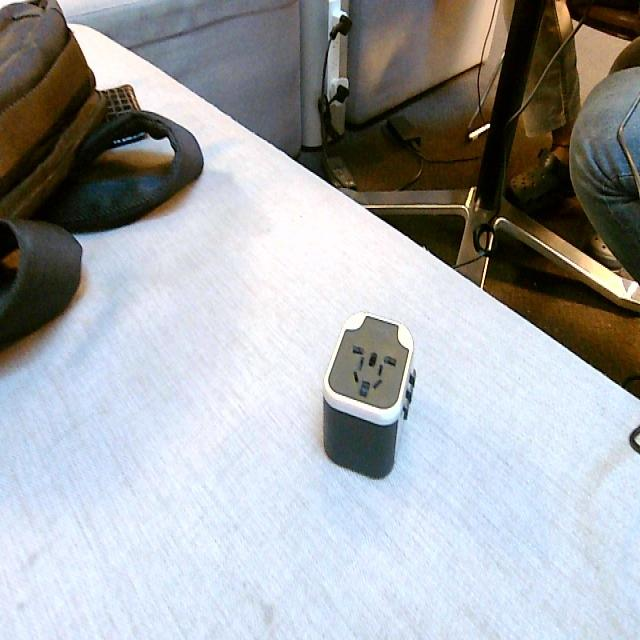adapter: (321, 309, 416, 479)
